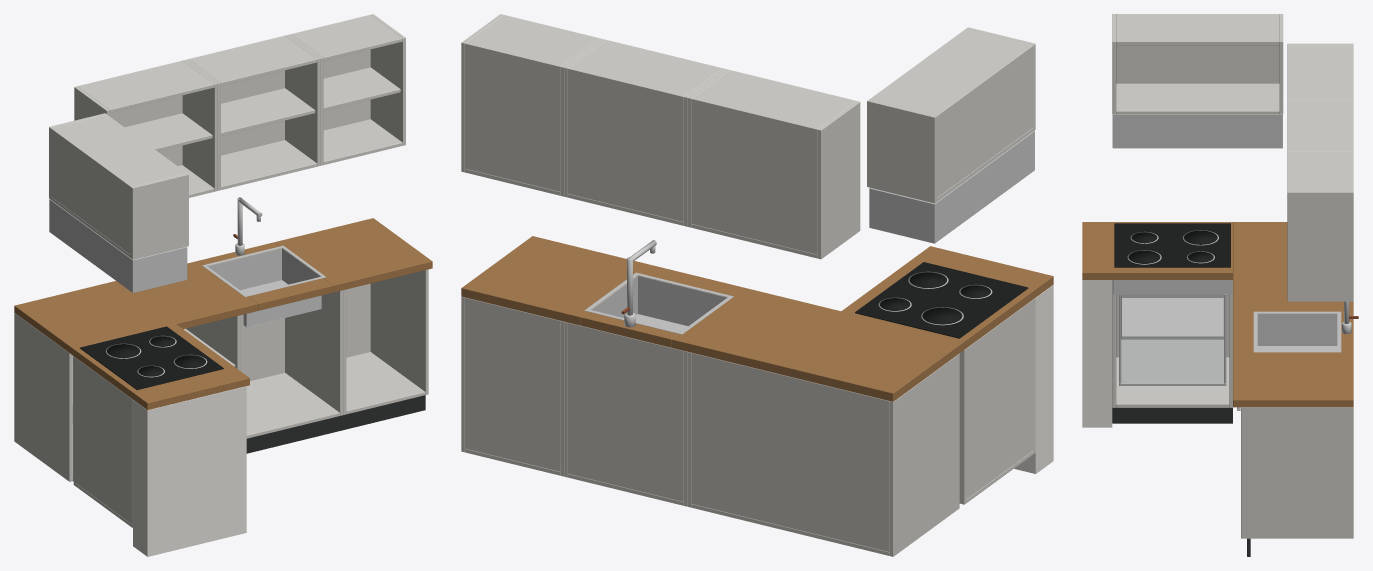
Rendered from l_kitchen_short_return_body.glb.
3 renders of one model, left to right at view 1: azimuth 30°, elevation 25°; view 2: azimuth 150°, elevation 25°; view 3: azimuth 270°, elevation 25°, orthographic. The views are drawn at different scales.
Parts seen in each view (by area): view 1: l_kitchen_short_return_body; view 2: l_kitchen_short_return_body; view 3: l_kitchen_short_return_body.
Boxes of the visible parts, x1,y1,x2,y2 form: l_kitchen_short_return_body: (14, 14, 432, 556); l_kitchen_short_return_body: (461, 14, 1053, 556); l_kitchen_short_return_body: (1082, 14, 1358, 556).
Size of the model in its own units: 2.1 by 2 by 1.38.
